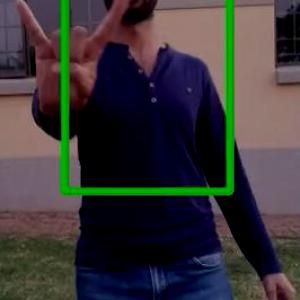takeoff-hand: (10, 0, 137, 132)
